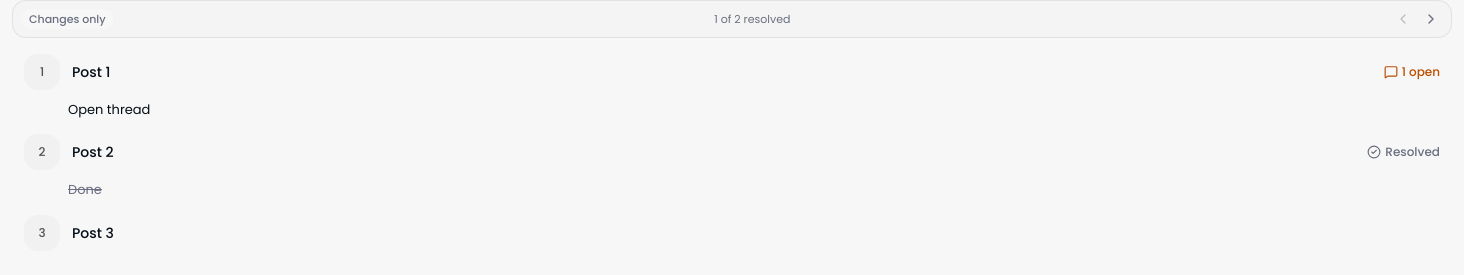
Scenario: InternalReviewRail › keeps resolved rows and hides only no-feedback rows when Changes only is on
Expected: the number of buttons with test id "internal-rail-row" is 3, [12,46,1452,98]; [12,126,1452,178]; [12,206,1452,258]
Toggle filter on
Step 1. Click the button with test id "changes-navigator-filter" → (67, 19), box [21,9,114,29]
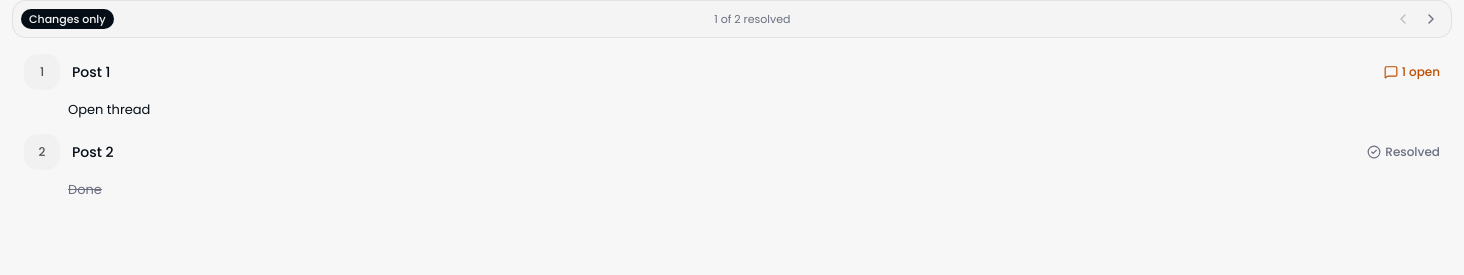
Expected: the button with test id "internal-rail-row" shows "Post 1", [12,46,1452,98]
Now the number of buttons with test id "internal-rail-row" is 2, box [12,46,1452,98]; [12,126,1452,178]
Now the button "Post 3" is gone
